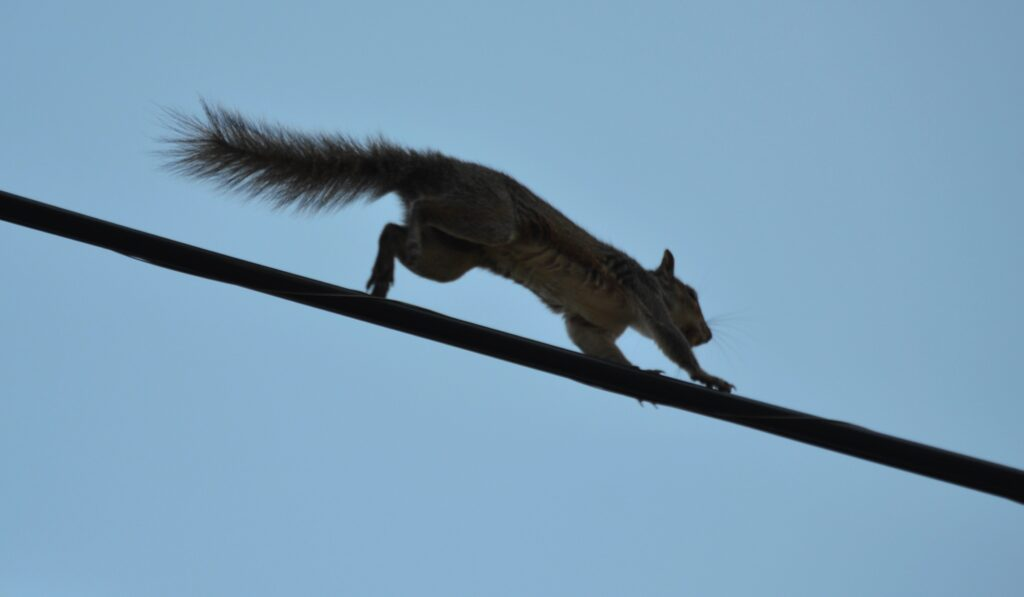squirrel: (165, 100, 744, 399)
